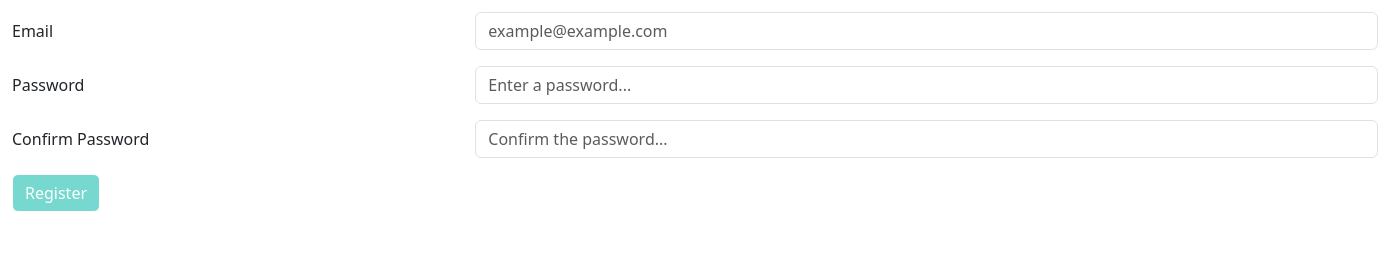
Scenario: RegisterForm tests › updates isRegConfirmPasswordValid state on input change
Type "Password123!" into the password field with placeholder "Enter a password..." at (927, 85), box [475, 66, 1378, 104]
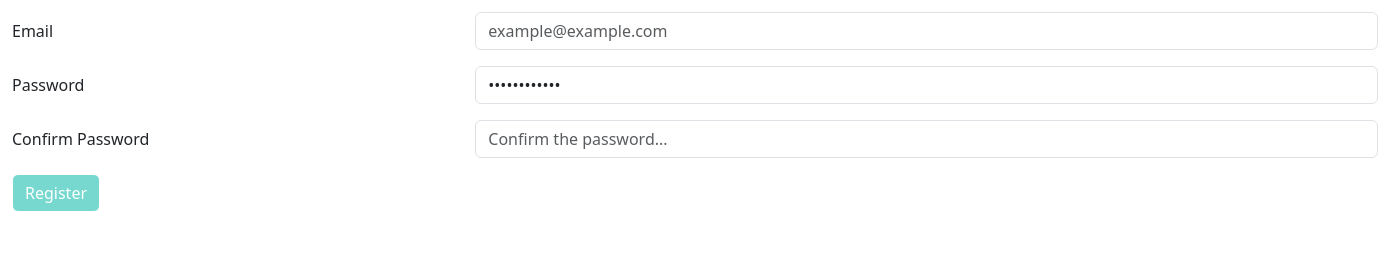
Type "Password1!" into the password field with placeholder "Confirm the password..." at (927, 139), box [475, 120, 1378, 158]
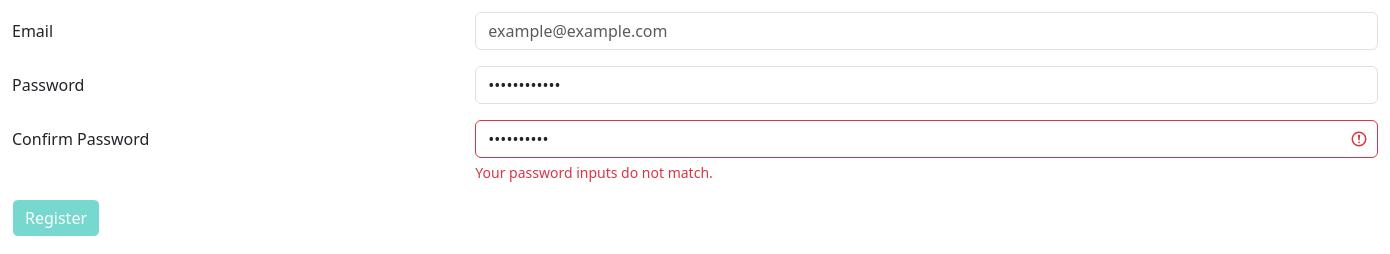
Check: the text "Your password inputs do not match." is shown, box [475, 163, 713, 182]
